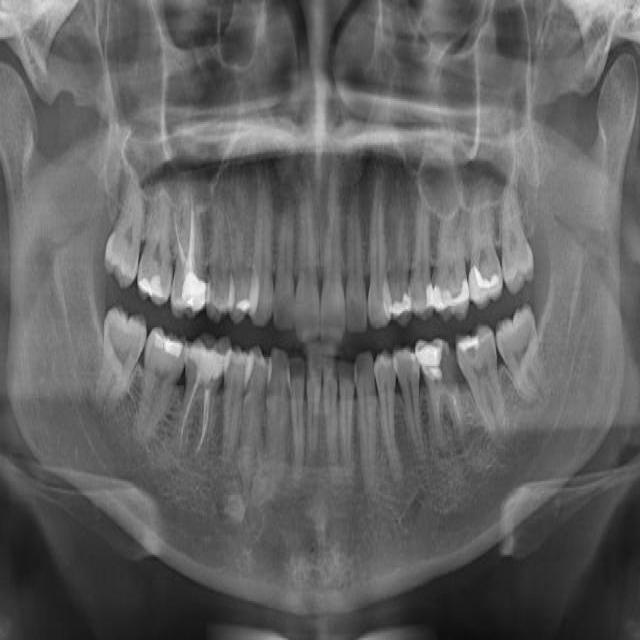dentin-curugu: (436, 334, 462, 408)
dolgu: (180, 333, 229, 394), (463, 249, 505, 308), (146, 324, 185, 380), (172, 264, 208, 319), (453, 317, 489, 372), (434, 273, 472, 323), (228, 266, 258, 326), (415, 339, 447, 390), (136, 266, 170, 312), (381, 284, 418, 322)
kanal-tedavisi: (165, 193, 201, 282), (182, 382, 220, 445)
